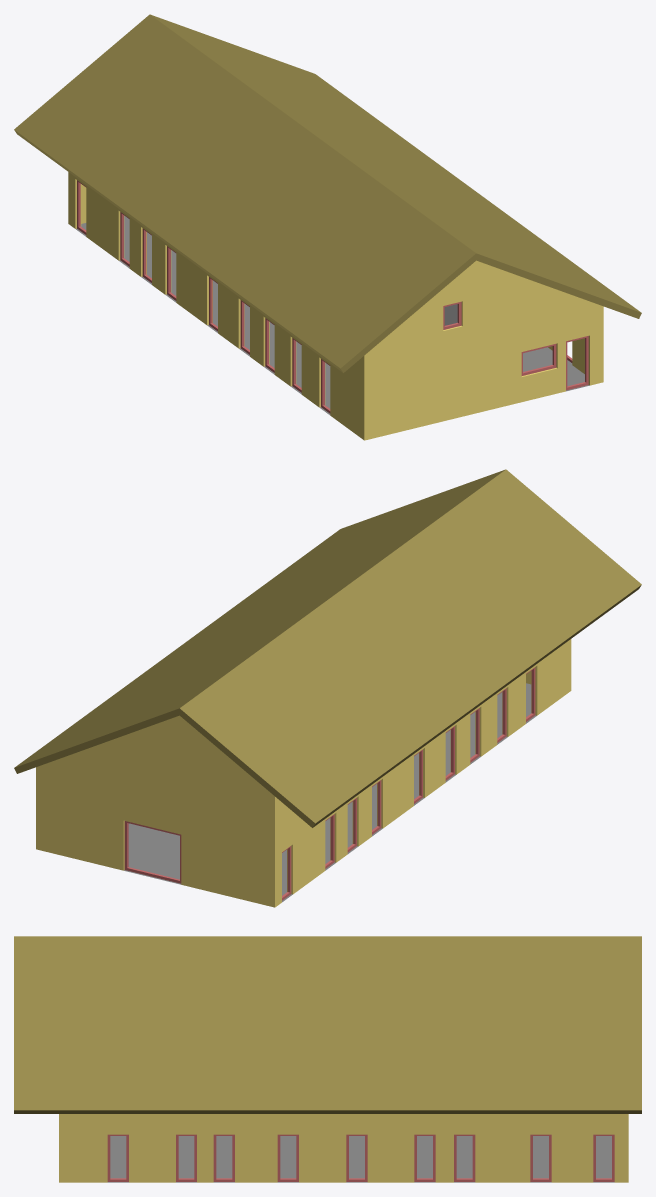
File: result.glb
3 renders of one model, top to bottom at view 1: azimuth 30°, elevation 25°; view 2: azimuth 150°, elevation 25°; view 3: azimuth 270°, elevation 25°, orthographic. The views are drawn at different scales.
Parts seen in each view (by area): view 1: 2a29b272-dd23-4561-8db8-445bfac05733__undefined (×2), 4796bea6-aeb1-45ef-afcc-b35da5e20843__undefined, 4b198e7f-3843-4a87-b4fc-17002bd1ad66__Plane_40; view 2: 2a29b272-dd23-4561-8db8-445bfac05733__undefined (×2), 4796bea6-aeb1-45ef-afcc-b35da5e20843__undefined, 4b198e7f-3843-4a87-b4fc-17002bd1ad66__Plane_40, c2aa53d6-3042-4f18-bef6-c3af83a1905d__Box_9; view 3: 2a29b272-dd23-4561-8db8-445bfac05733__undefined, 4796bea6-aeb1-45ef-afcc-b35da5e20843__undefined, 4b198e7f-3843-4a87-b4fc-17002bd1ad66__Plane_40, bbfc2d48-eee4-403a-9d01-044894c3a3a2__Box_66, 941ca48a-77d2-494d-b829-49aa728ce438__Box_72, d5557df7-68b6-4e31-9f67-8b3562679029__Box_75, 7371971e-fe43-4add-9d49-0a38bb72695c__Box_84, 110b23fc-2865-44a7-989e-b7daee06fcde__Box_78, a056e73c-d93a-4713-8cde-50bf1c2e9d9f__Box_81, 7224e87b-8caf-482f-9883-a4babd2bb92c__Box_87, 9df7ce34-4adf-4096-a6c1-7c15f7777dff__Box_90, fcdfdf67-4c19-4499-b2a4-b1f1ebc61810__Box_69.
Boxes of the visible parts, <box> form: 2a29b272-dd23-4561-8db8-445bfac05733__undefined (×2): <box>14,14,641,372</box>; 4796bea6-aeb1-45ef-afcc-b35da5e20843__undefined: <box>68,172,603,440</box>; 4b198e7f-3843-4a87-b4fc-17002bd1ad66__Plane_40: <box>76,216,589,415</box>; 2a29b272-dd23-4561-8db8-445bfac05733__undefined (×2): <box>14,469,641,827</box>; 4796bea6-aeb1-45ef-afcc-b35da5e20843__undefined: <box>36,639,571,907</box>; 4b198e7f-3843-4a87-b4fc-17002bd1ad66__Plane_40: <box>124,683,536,902</box>; c2aa53d6-3042-4f18-bef6-c3af83a1905d__Box_9: <box>124,821,181,883</box>; 2a29b272-dd23-4561-8db8-445bfac05733__undefined: <box>14,936,641,1113</box>; 4796bea6-aeb1-45ef-afcc-b35da5e20843__undefined: <box>59,1114,628,1182</box>; 4b198e7f-3843-4a87-b4fc-17002bd1ad66__Plane_40: <box>107,1136,614,1182</box>; bbfc2d48-eee4-403a-9d01-044894c3a3a2__Box_66: <box>107,1134,128,1181</box>; 941ca48a-77d2-494d-b829-49aa728ce438__Box_72: <box>213,1134,234,1181</box>; d5557df7-68b6-4e31-9f67-8b3562679029__Box_75: <box>277,1134,298,1181</box>; 7371971e-fe43-4add-9d49-0a38bb72695c__Box_84: <box>454,1134,475,1181</box>; 110b23fc-2865-44a7-989e-b7daee06fcde__Box_78: <box>346,1134,367,1181</box>; a056e73c-d93a-4713-8cde-50bf1c2e9d9f__Box_81: <box>414,1134,435,1181</box>; 7224e87b-8caf-482f-9883-a4babd2bb92c__Box_87: <box>530,1134,551,1181</box>; 9df7ce34-4adf-4096-a6c1-7c15f7777dff__Box_90: <box>593,1134,614,1181</box>; fcdfdf67-4c19-4499-b2a4-b1f1ebc61810__Box_69: <box>176,1134,196,1181</box>.
Size of the model in its own units: 1258 by 729 by 2360.
